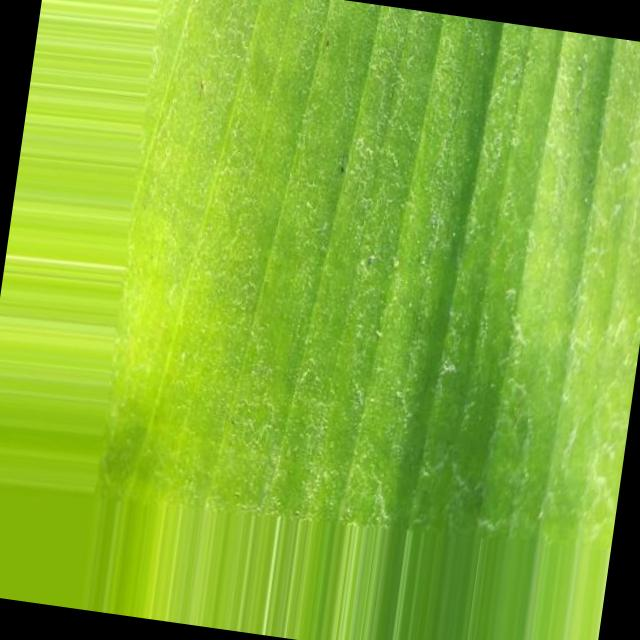Banana_Healthy: (167, 129, 557, 508)
